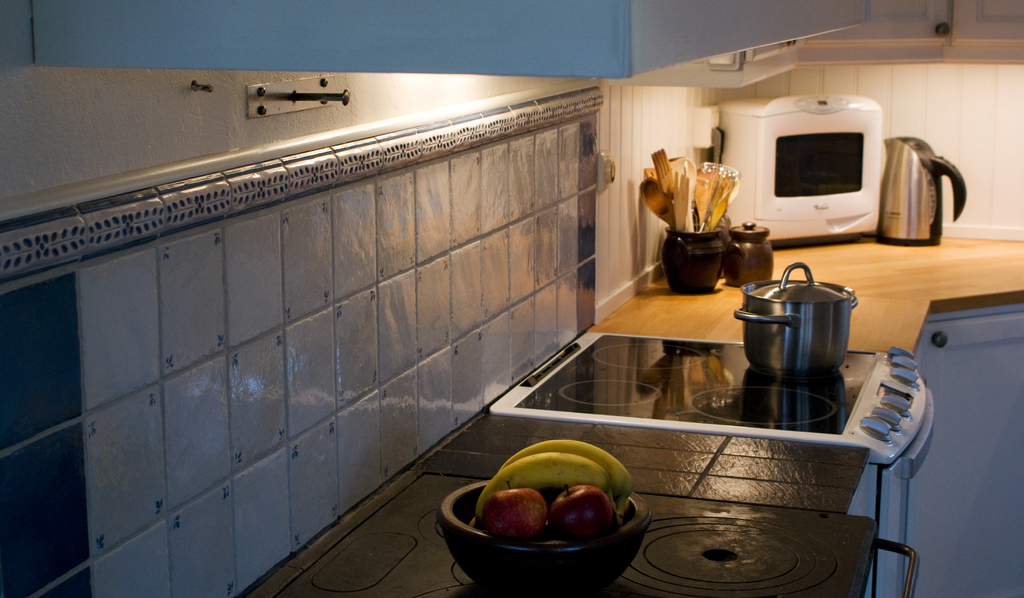Apple: (547, 476, 621, 545), (482, 474, 551, 545)
